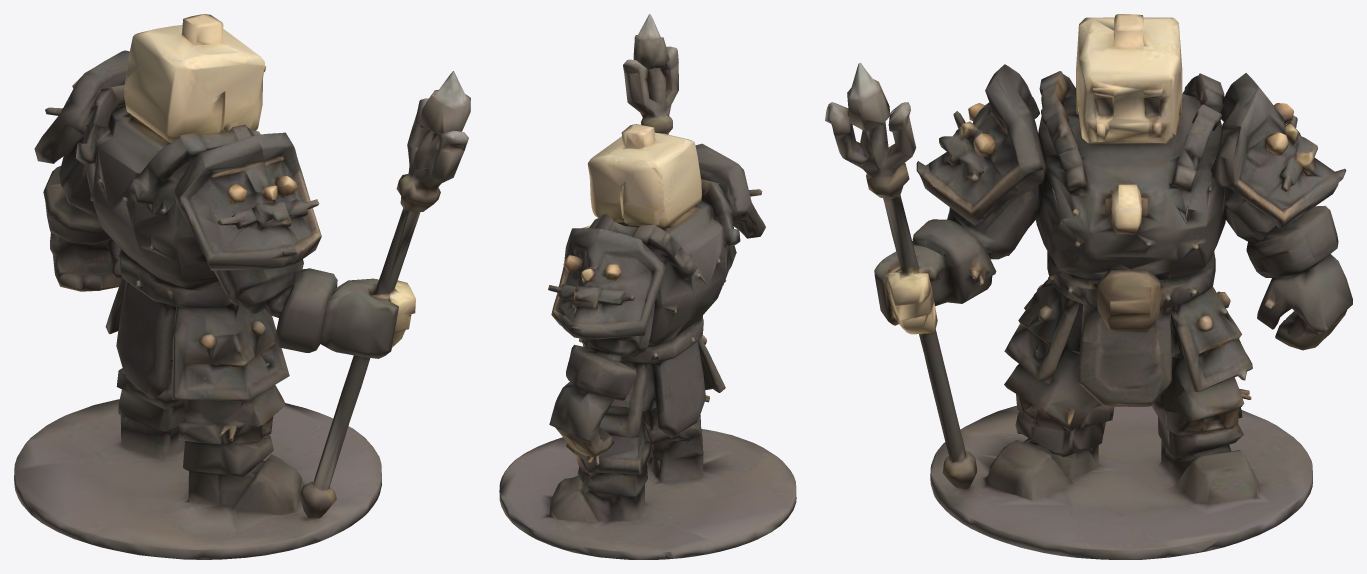
The model's file is chariot.glb.
3 views of the same model, side by side, from view 1: azimuth 30°, elevation 25°; view 2: azimuth 150°, elevation 25°; view 3: azimuth 270°, elevation 25° (orthographic). The views are drawn at different scales.
Visible parts, largest first — view 1: tripo_node_6a523104-26cf-45f9-8321-4bfe4012cb69; view 2: tripo_node_6a523104-26cf-45f9-8321-4bfe4012cb69; view 3: tripo_node_6a523104-26cf-45f9-8321-4bfe4012cb69.
Boxes of the visible parts, box(x1,y1,x2,y2) form: tripo_node_6a523104-26cf-45f9-8321-4bfe4012cb69: box(14, 14, 470, 559); tripo_node_6a523104-26cf-45f9-8321-4bfe4012cb69: box(499, 14, 796, 559); tripo_node_6a523104-26cf-45f9-8321-4bfe4012cb69: box(825, 14, 1352, 559).
Size of the model in its own units: 0.7066 by 0.9994 by 0.9926.
Materials: 1 (1 with a texture image).
